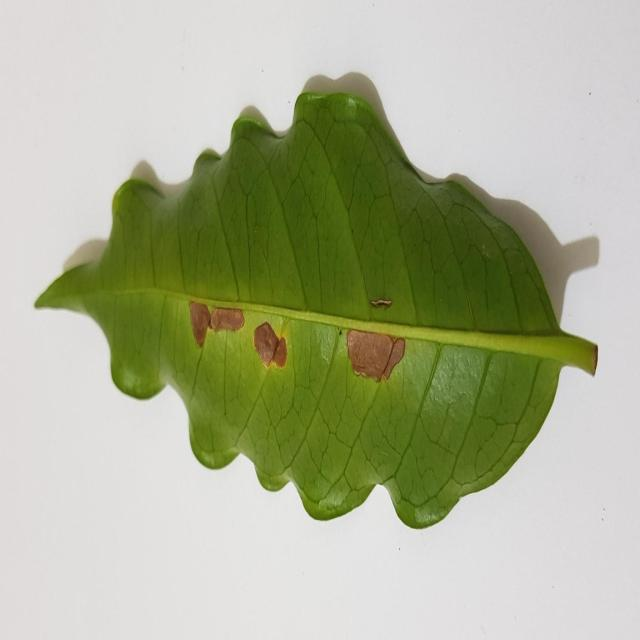Plaga-Minador: (32, 91, 598, 532)
